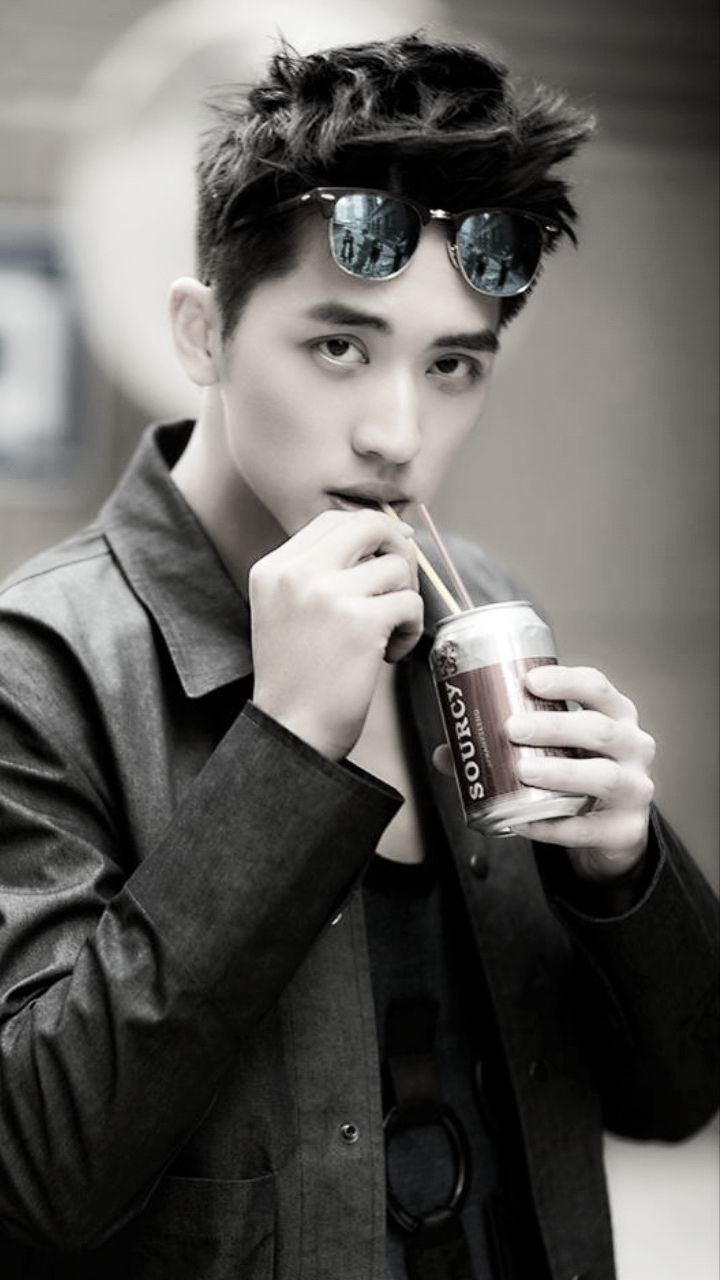person: (70, 23, 681, 1084)
